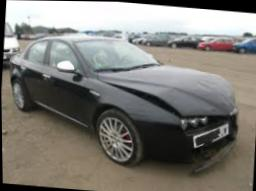Bonnet: (98, 62, 237, 118)
Bumper: (190, 130, 238, 173)
